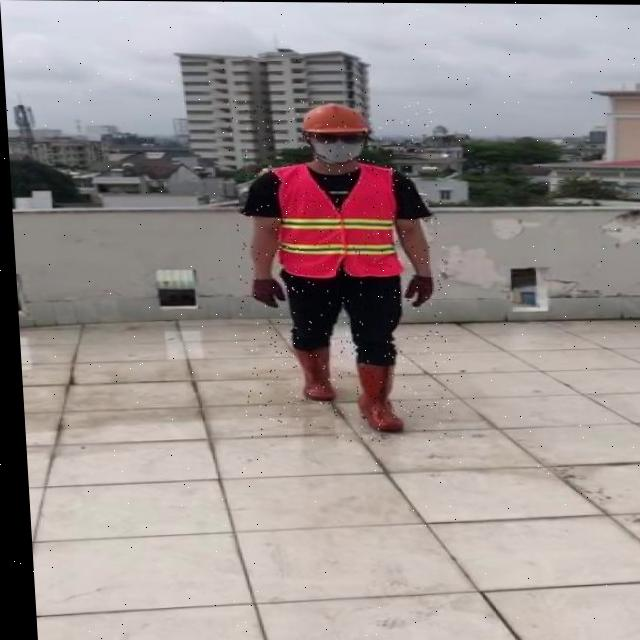Gloves: (246, 277, 282, 307), (399, 273, 430, 306)
Helmet: (298, 102, 369, 164)
Safety-Boot: (350, 360, 398, 431), (290, 342, 330, 400)
Safety-Vest: (267, 161, 401, 279)
